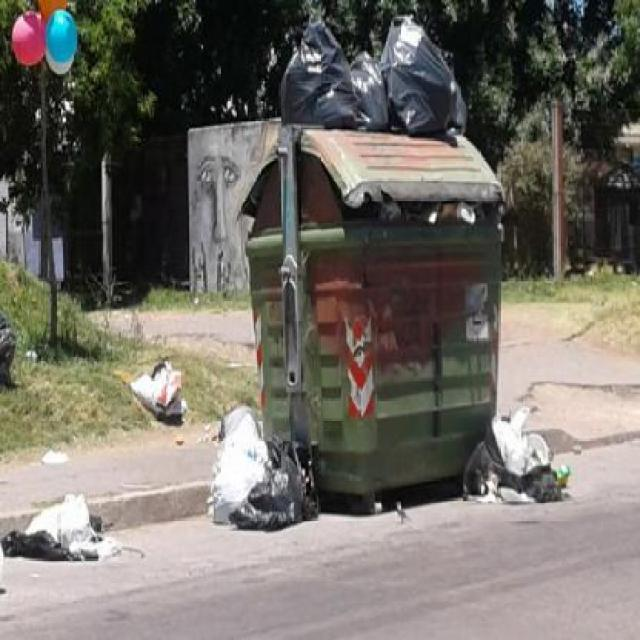garbage: (120, 168, 467, 548), (162, 43, 640, 262), (531, 246, 640, 512)
